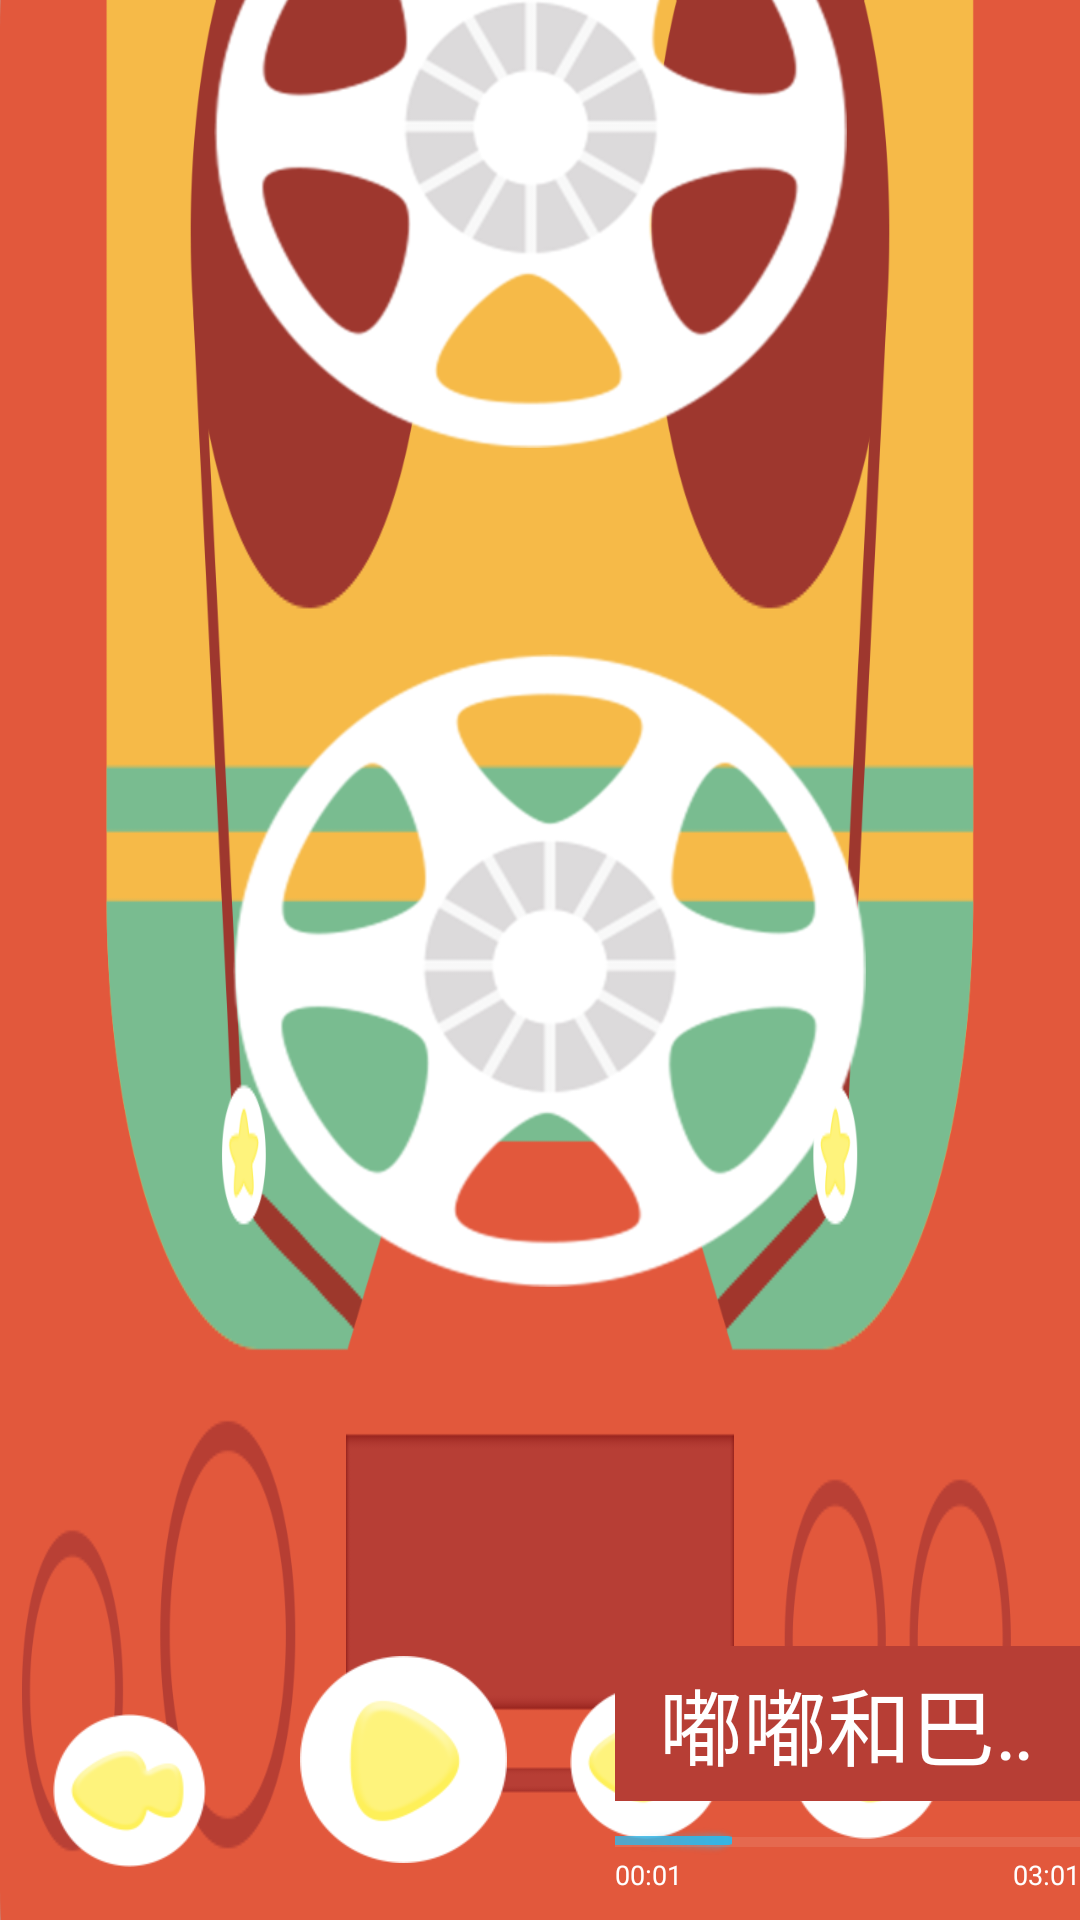

Screen size 1080 × 1920. Icon name, then its box in pixels as bbox(x1, y1, x2, y2):
play: bbox(300, 1656, 507, 1863)
